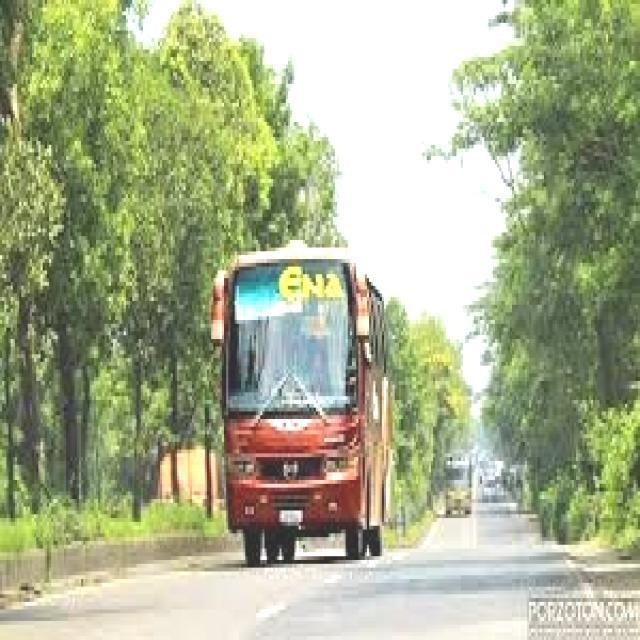Bus: (207, 222, 398, 579), (439, 436, 482, 537)
